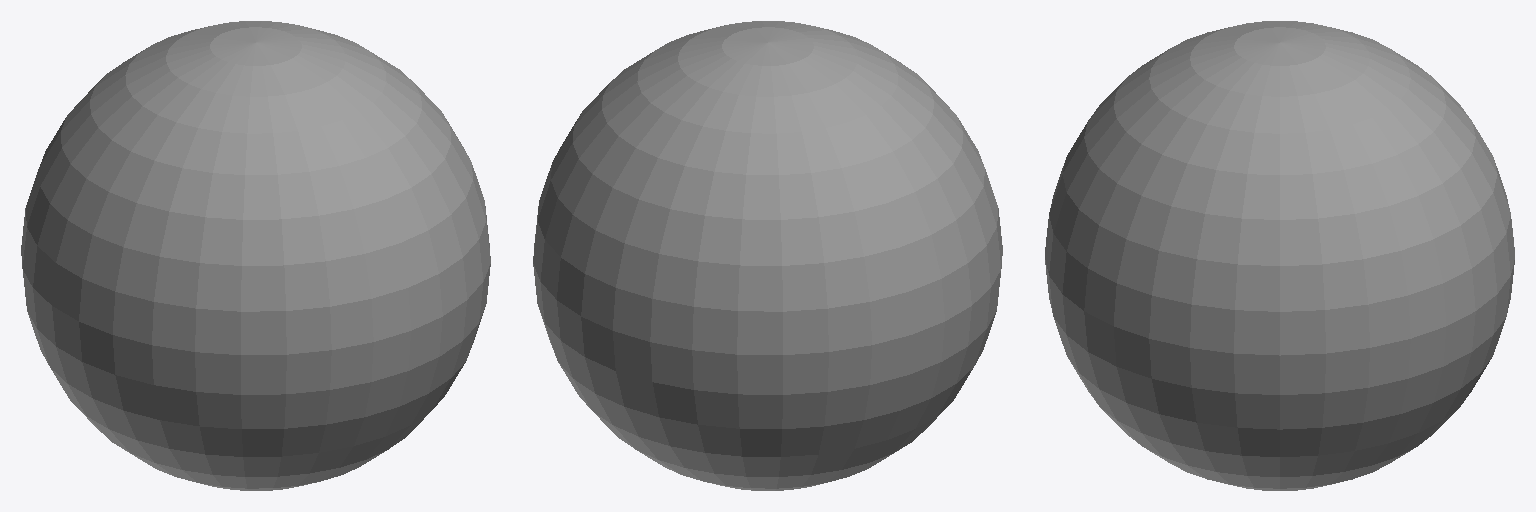
File: TexturedSphere.obj
3 renders of one model, left to right at view 1: azimuth 30°, elevation 25°; view 2: azimuth 150°, elevation 25°; view 3: azimuth 270°, elevation 25°, orthographic.
Parts seen in each view (by area): view 1: Sphere; view 2: Sphere; view 3: Sphere.
Part boxes in pixels (left/top/right/bottom): Sphere: left=21, top=21, right=490, bottom=490; Sphere: left=533, top=21, right=1002, bottom=490; Sphere: left=1045, top=21, right=1514, bottom=490.
Bounding box in the file's own units: 2.29 × 2.29 × 2.29.